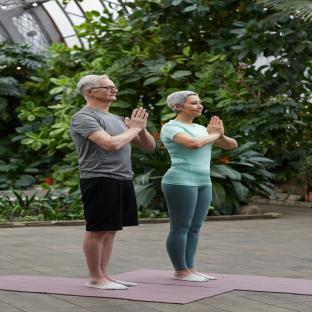Human: (70, 75, 156, 290), (160, 91, 237, 282)
